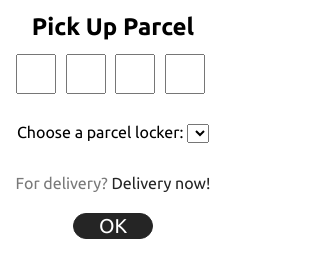
Test: CodeBox › switch to Delivery
Step 1. Click the text with test id "toDeliveryButton" → (161, 183), box [111,174,210,192]
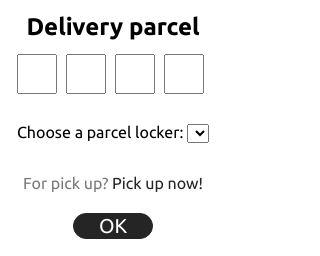
expect the heading "Pick Up Parcel" is gone: met
expect the text "Pick up now!" is shown: met, box [112,174,203,192]
